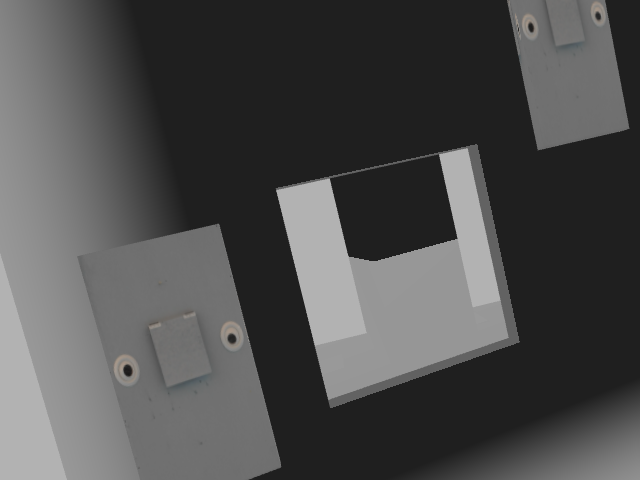facade: (113, 311, 245, 390), (520, 0, 607, 46)
